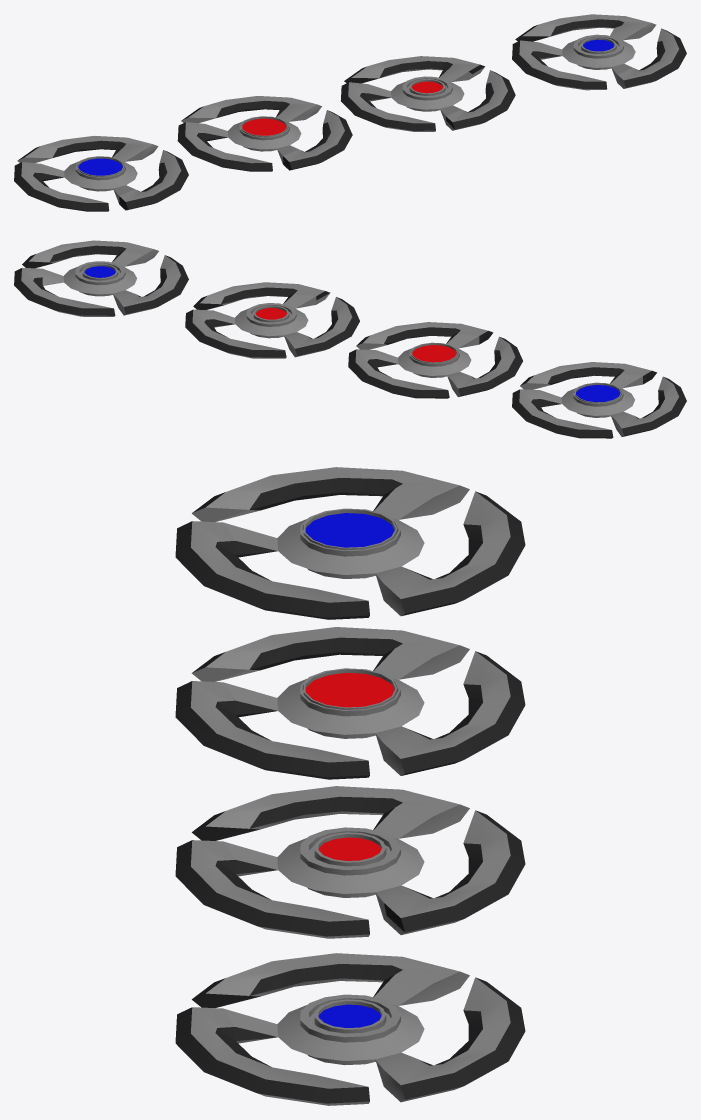
Rendered from AntmanBüyütmeKücültmeBombası.fbx.
The picture shows the model from 3 angles, top to bottom: view 1: azimuth 30°, elevation 25°; view 2: azimuth 150°, elevation 25°; view 3: azimuth 270°, elevation 25°; orthographic projection. The views are drawn at different scales.
Visible parts, largest first — view 1: Circle.003, Circle.002, Circle, Circle.001; view 2: Circle.003, Circle, Circle.002, Circle.001; view 3: Circle.001, Circle, Circle.002, Circle.003.
Part boxes in pixels (box(x1,y1,x2,y2)): Circle.003: box(14, 135, 188, 211); Circle.002: box(341, 56, 515, 131); Circle: box(177, 96, 352, 171); Circle.001: box(512, 14, 686, 90); Circle.003: box(512, 362, 686, 438); Circle: box(348, 322, 522, 398); Circle.002: box(185, 282, 359, 358); Circle.001: box(14, 240, 188, 316); Circle.001: box(175, 953, 525, 1105); Circle: box(175, 627, 525, 779); Circle.002: box(175, 786, 525, 938); Circle.003: box(175, 467, 525, 619).
Size of the model in its own units: 794 by 17.79 by 185.
